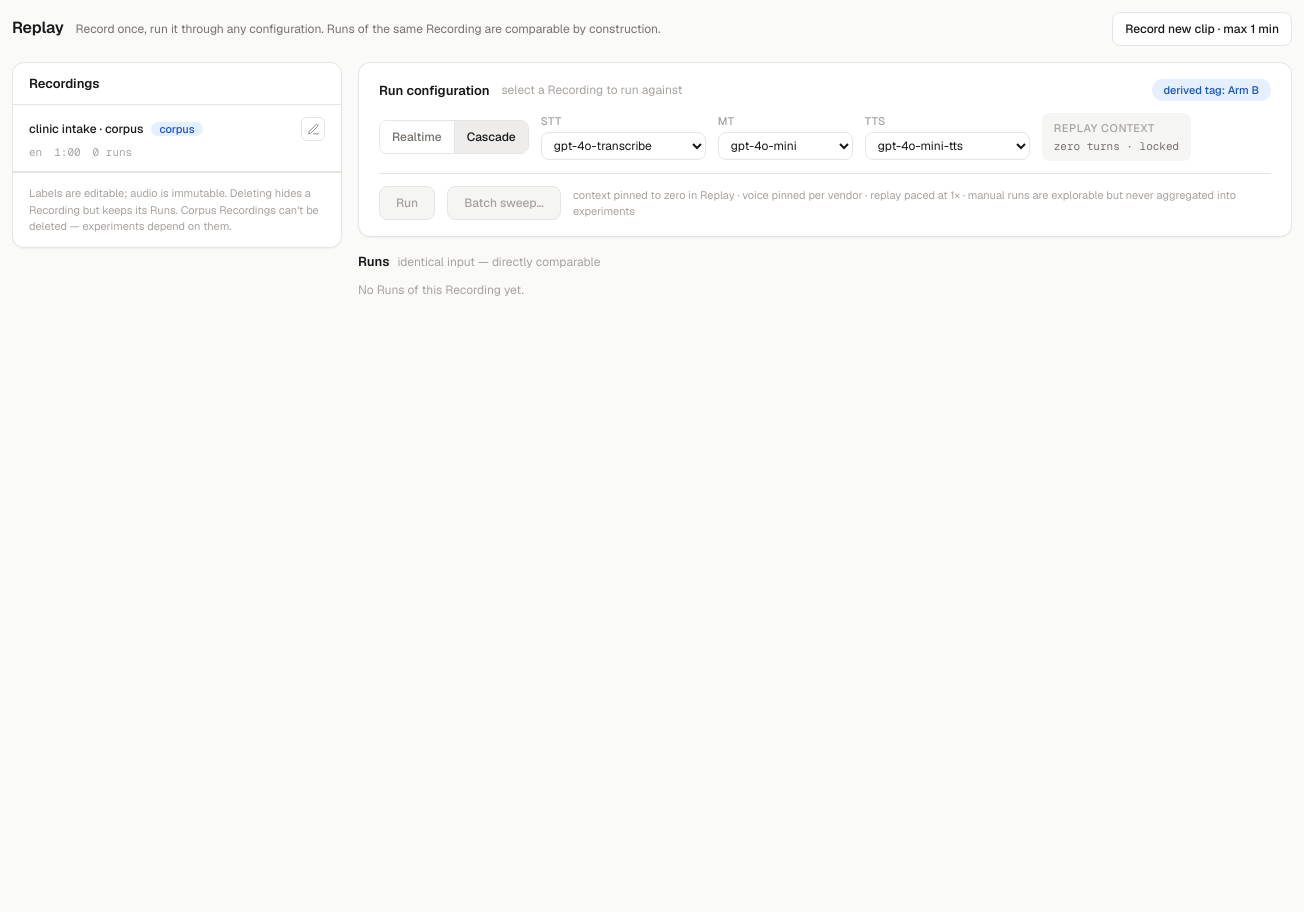
Test: RecordTake — the 1 minute cap is enforced and visible › a take that hits the cap stops, says so, and lands in review
Expected: the element that starts with "Recordings" is shown, [12, 62, 342, 248]
Click the button "Record new clip · max 1 min" at (1202, 29), box [1112, 12, 1292, 46]
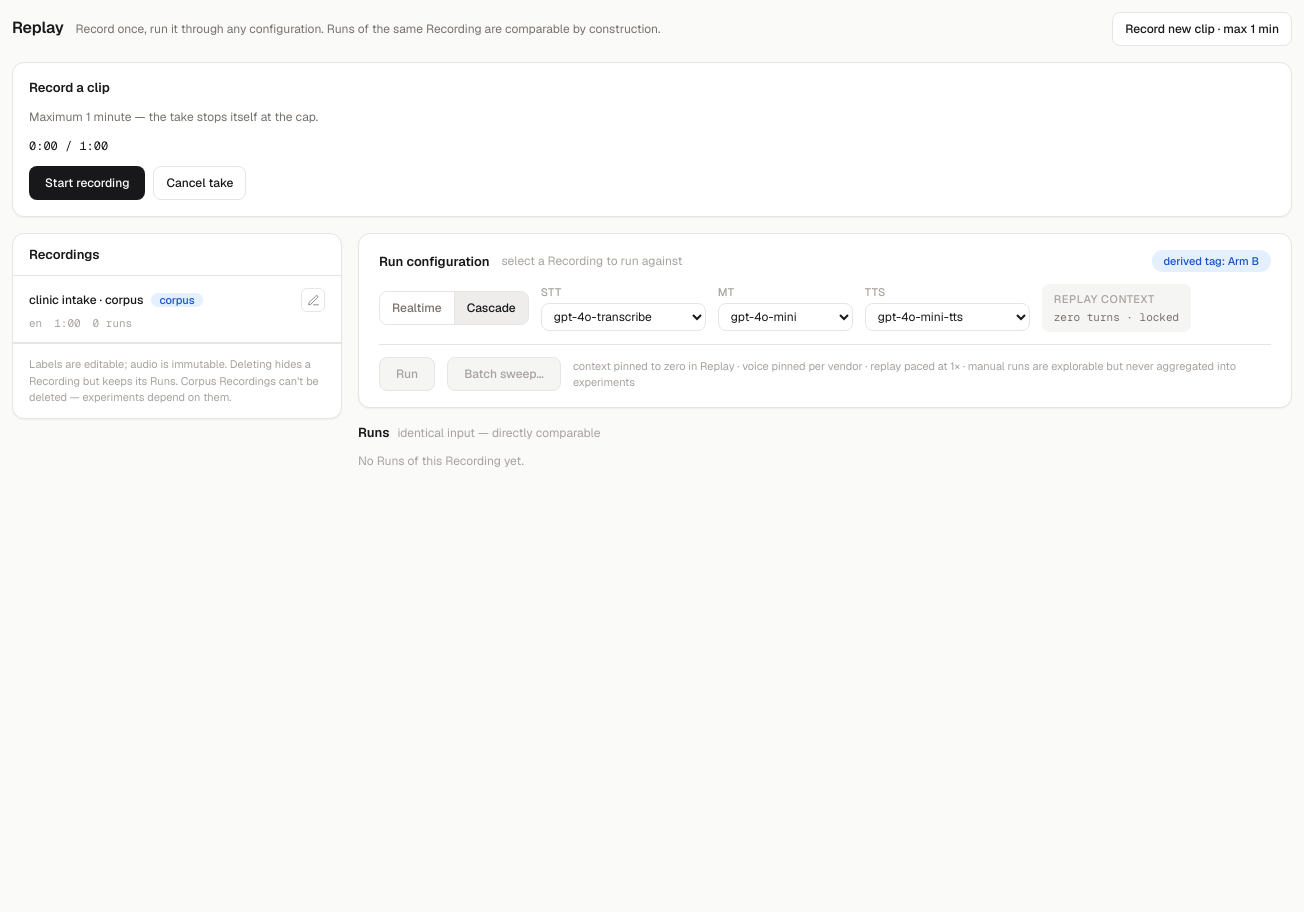
Expected: the element that starts with "Record a clip" is shown, [12, 62, 1292, 217]
Click the button "Start recording" at (87, 183), box [29, 166, 146, 200]
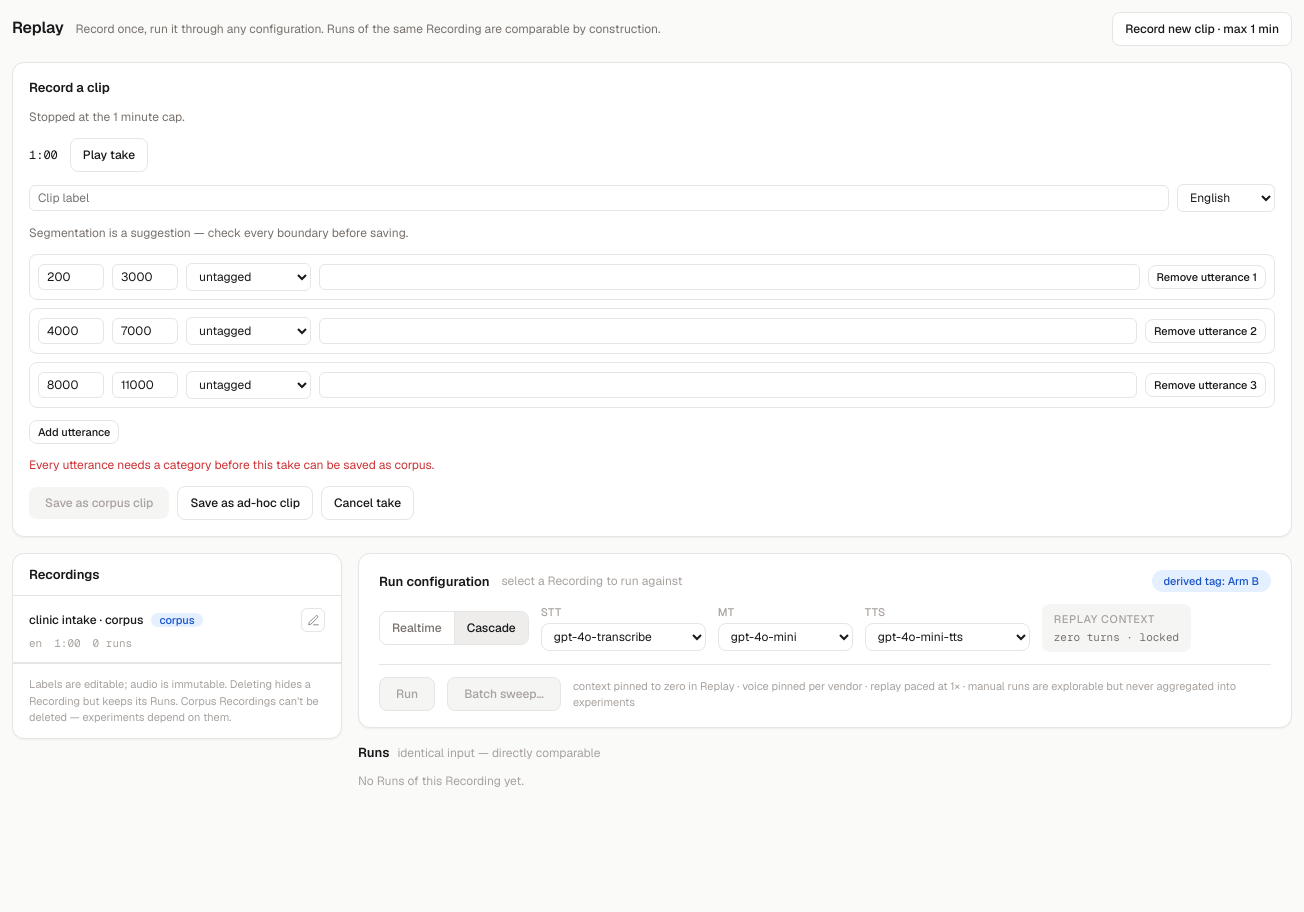
Expected: the text "Stopped at the 1 minute cap." is shown, [29, 109, 185, 125]
